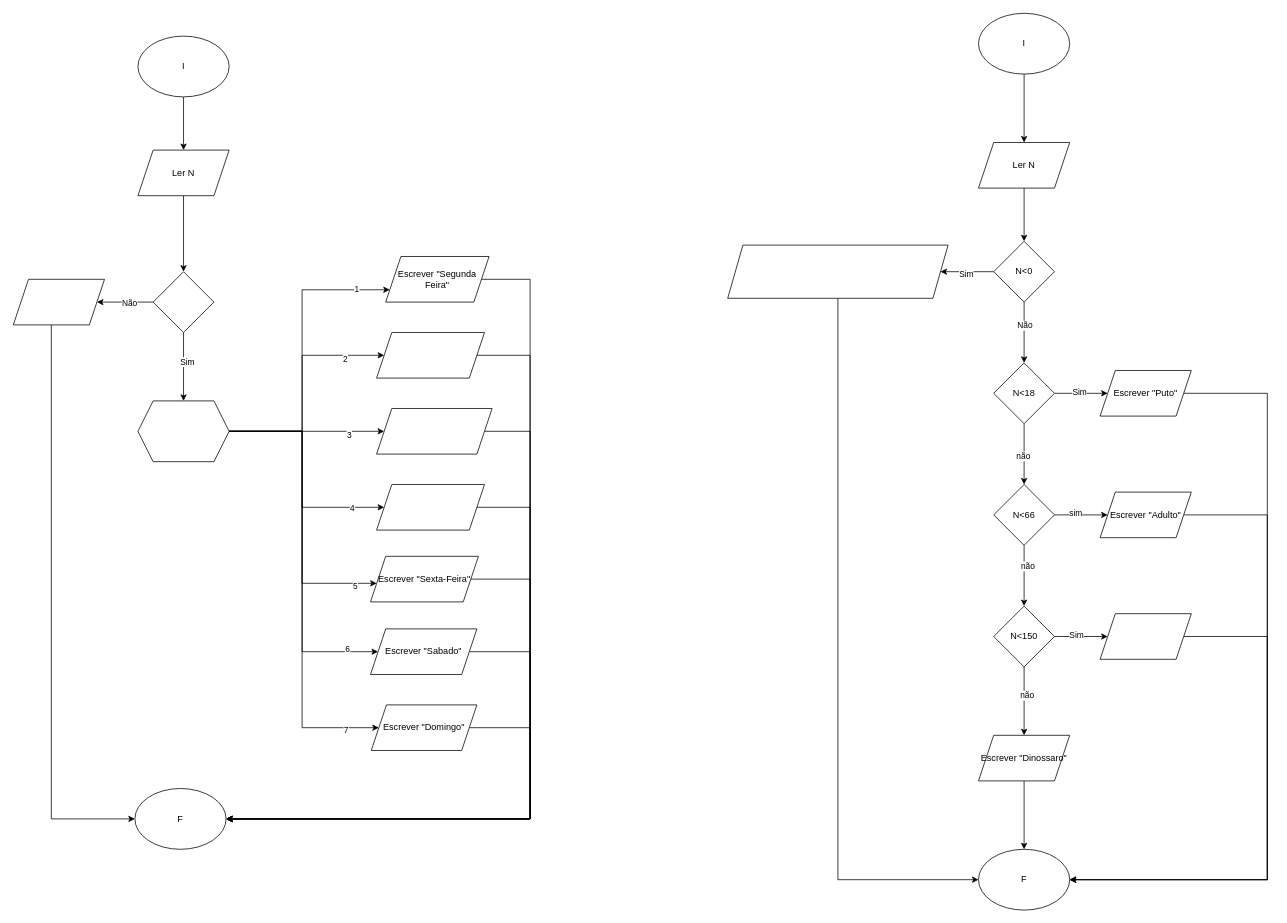
The diagram is 1287 pixels wide and 923 high, and some of its shapes have lost their labels. The centre of each missing label's shape, as x and y in pixels:
Escrever "erro": [58,302]
Escrever "Meteste água. Aguarda Processo de Secagem: [837,271]
Escrever "Quarta-Feira": [434,431]
Escrever "Quinta-Feira: [430,507]
Escrever "Terça-Feira: [430,355]
Escrever "Velinho": [1145,636]
N<7 and N>1: [183,301]
switch case N: [183,431]
